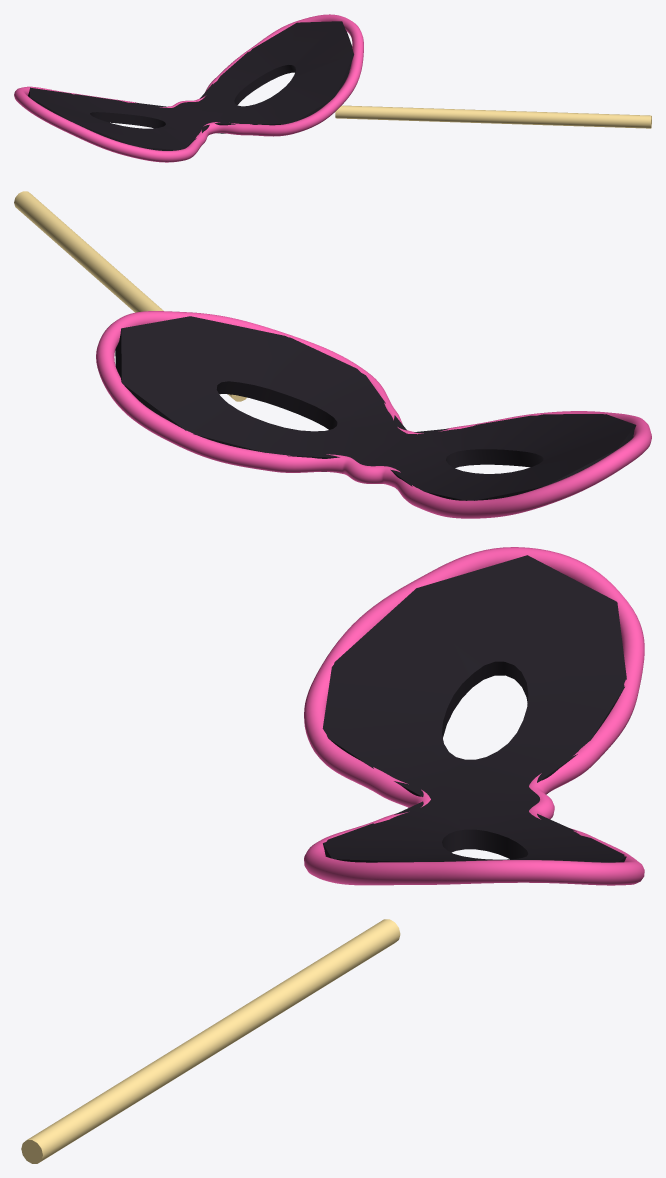
Rendered from Item_LaceMask.fbx.
The picture shows the model from 3 angles, top to bottom: view 1: azimuth 30°, elevation 25°; view 2: azimuth 150°, elevation 25°; view 3: azimuth 270°, elevation 25°; orthographic projection. The views are drawn at different scales.
Parts seen in each view (by area): view 1: Mask_Body, Mask_Trim, Mask_Stick; view 2: Mask_Body, Mask_Trim, Mask_Stick; view 3: Mask_Body, Mask_Trim, Mask_Stick.
Boxes of the visible parts, x1,y1,x2,y2 form: Mask_Body: [28, 21, 353, 150]; Mask_Trim: [14, 14, 363, 162]; Mask_Stick: [335, 105, 651, 128]; Mask_Body: [115, 316, 636, 500]; Mask_Trim: [96, 311, 651, 518]; Mask_Stick: [14, 191, 246, 401]; Mask_Body: [322, 555, 626, 862]; Mask_Trim: [304, 547, 644, 885]; Mask_Stick: [21, 919, 400, 1163].
Bounding box in the file's own units: 0.2233 × 0.0263 × 0.1182.
